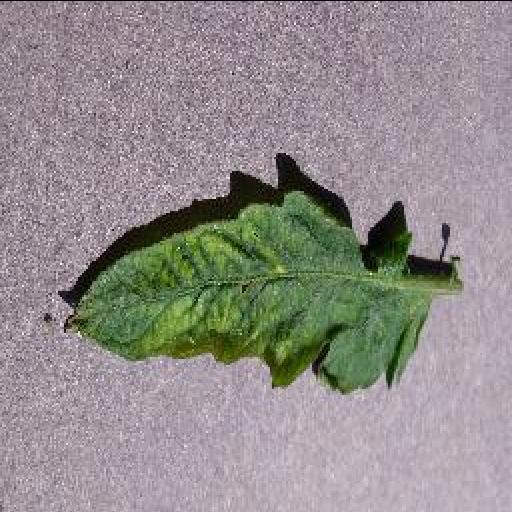disease_tomato: (60, 187, 432, 397)
